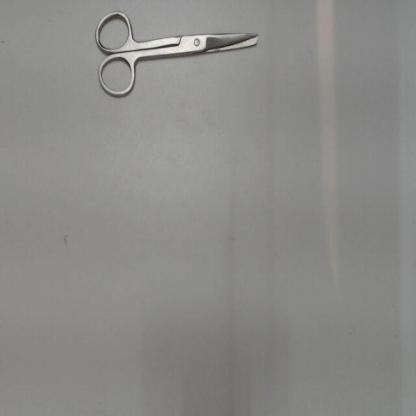Dressing Scissors: (85, 3, 272, 111)
